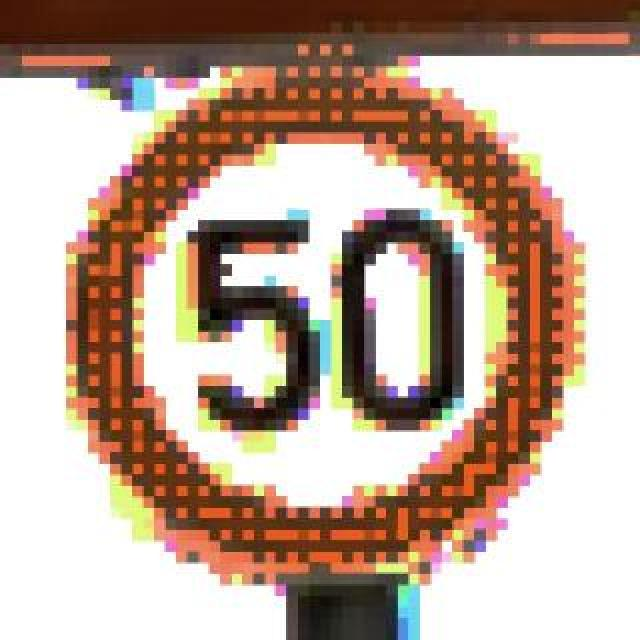50 kph: (66, 66, 562, 552)
